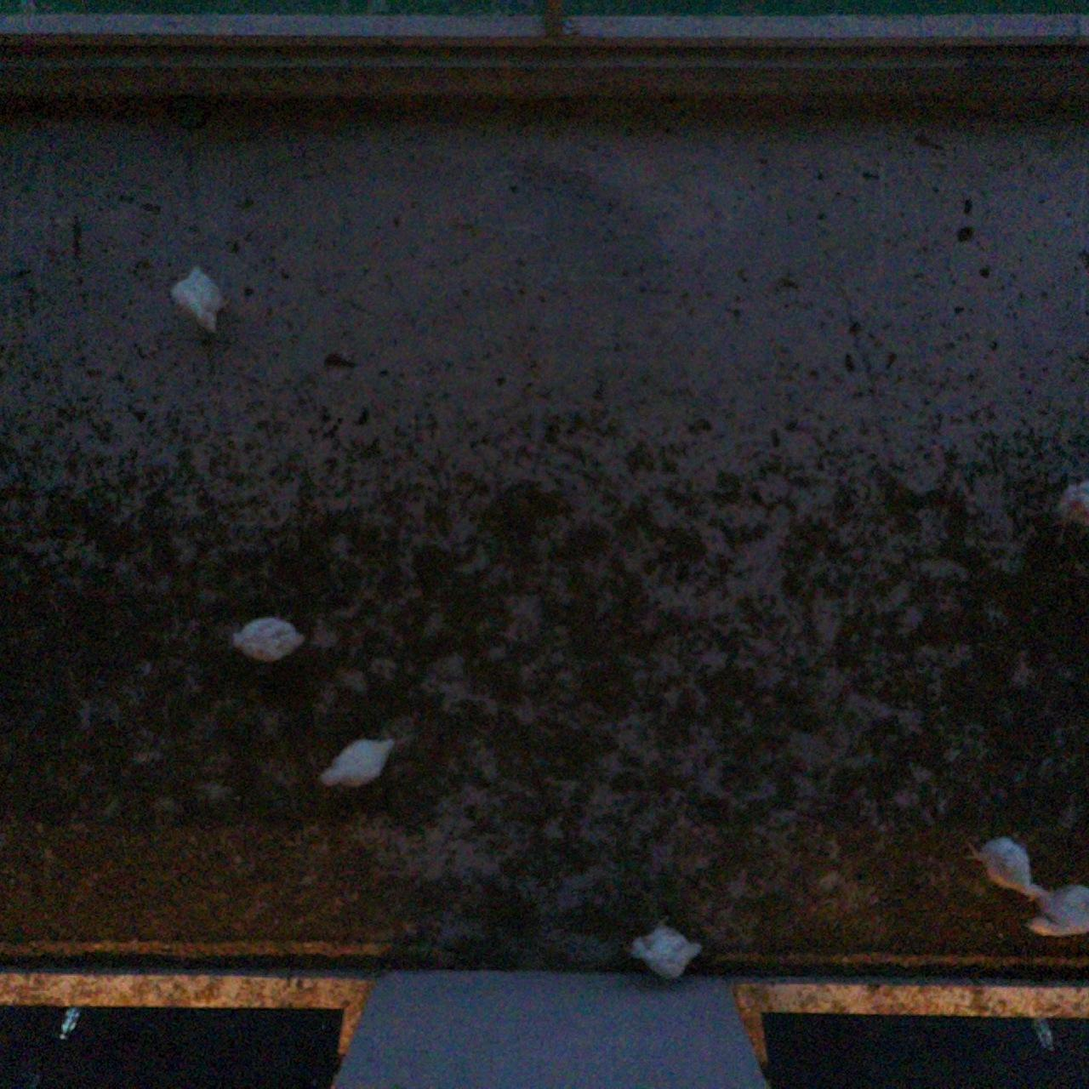chicken: (958, 824, 1052, 903), (617, 912, 709, 985), (162, 261, 243, 339), (311, 729, 403, 796), (226, 610, 309, 669), (1021, 880, 1089, 947), (1038, 472, 1089, 534)
